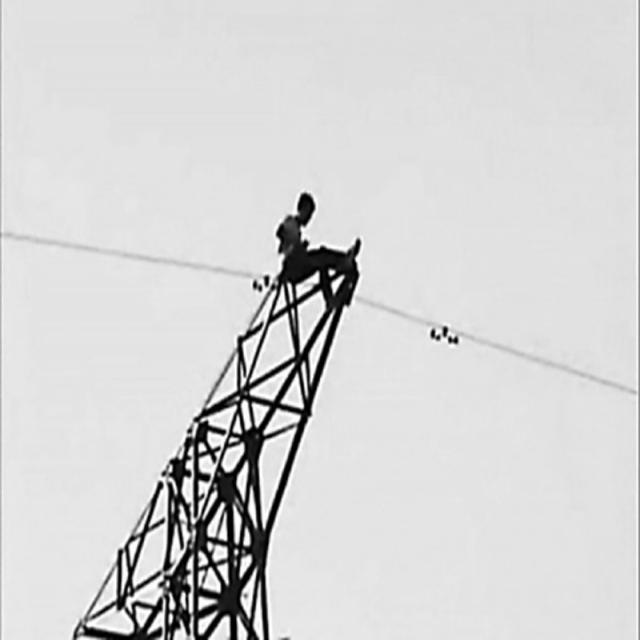non-critical vegetation: (48, 268, 374, 632)
